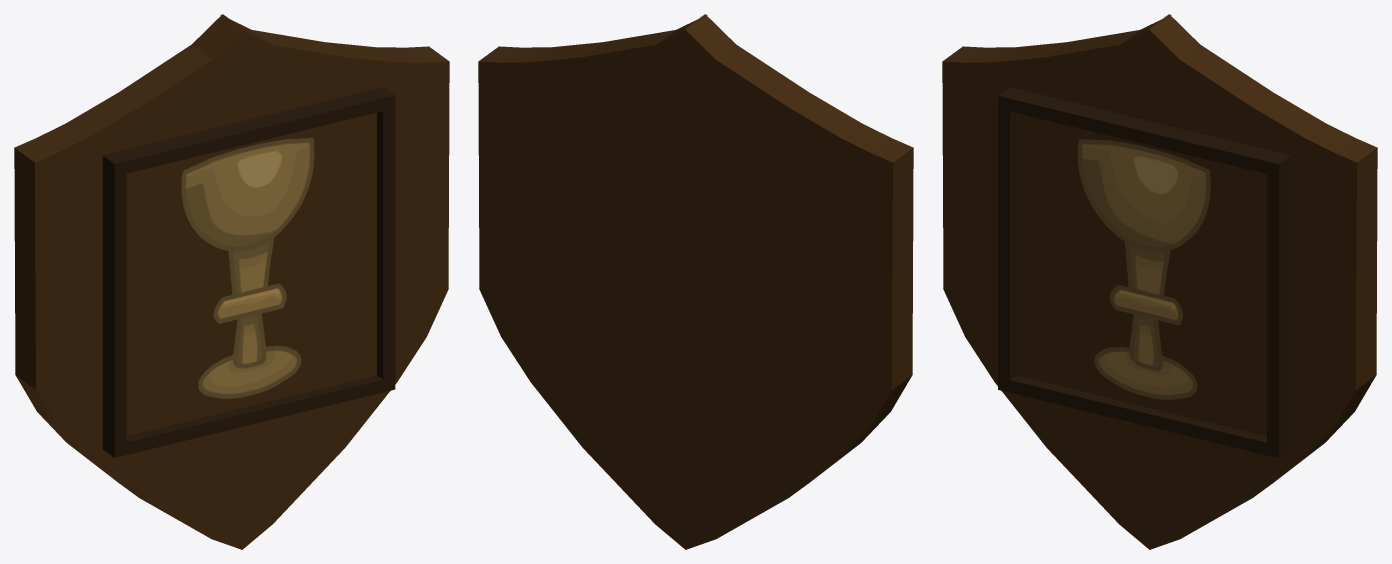
File: Grail_crest.fbx
3 renders of one model, left to right at view 1: azimuth 30°, elevation 25°; view 2: azimuth 150°, elevation 25°; view 3: azimuth 330°, elevation 25°, orthographic.
Visible parts, largest first — view 1: Cube; view 2: Cube; view 3: Cube.
Boxes of the visible parts, bbox=[...] form: Cube: bbox=[14, 14, 449, 549]; Cube: bbox=[478, 14, 913, 549]; Cube: bbox=[942, 14, 1377, 549].
Size of the model in its own units: 50 by 60 by 6.8.
